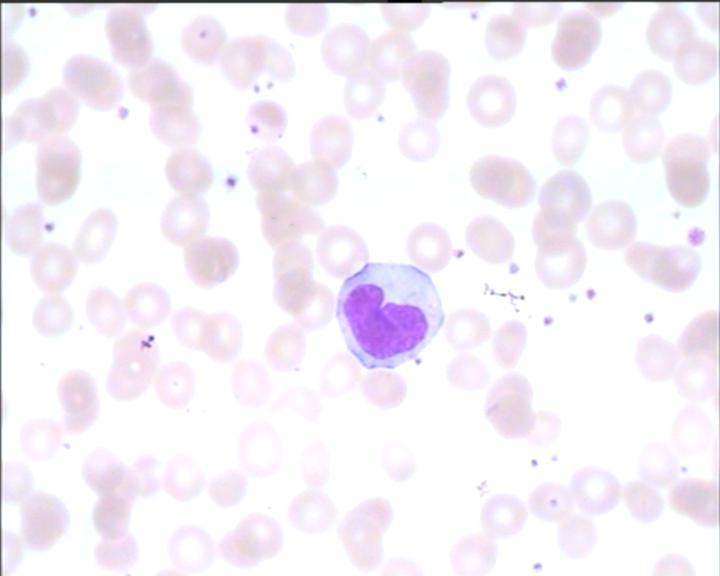mono: (333, 256, 447, 373)
